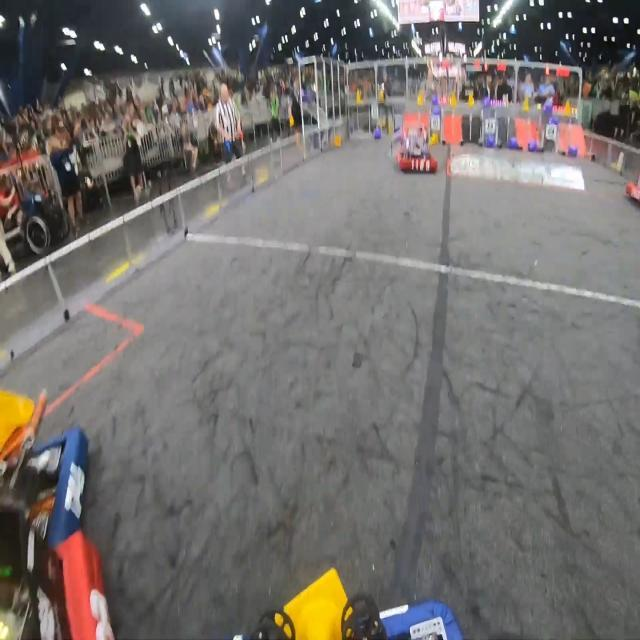robot: (0, 509, 114, 640), (0, 388, 91, 544), (396, 123, 439, 176), (625, 172, 640, 204)
